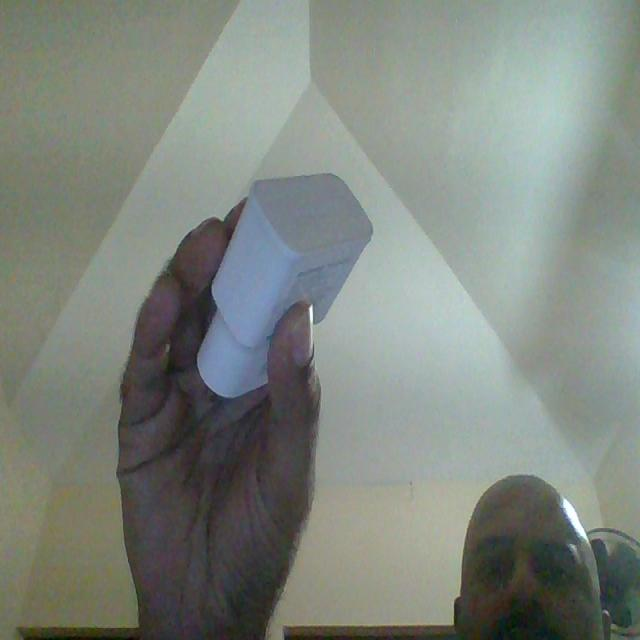charger: (193, 167, 387, 400)
